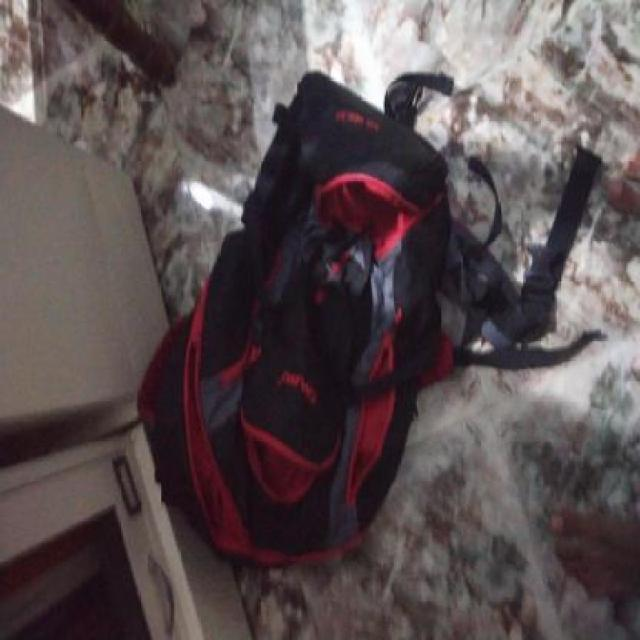backpack: (130, 66, 482, 577)
